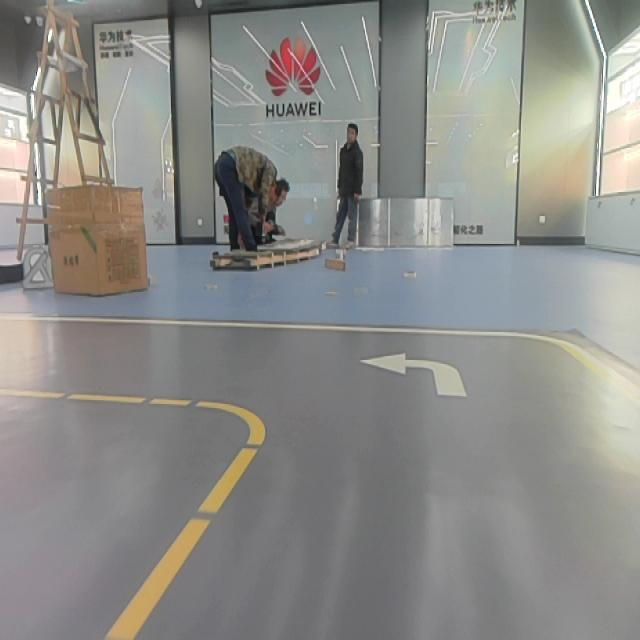left_lane: (98, 434, 268, 640)
right_lane: (567, 344, 640, 405)
